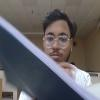notebook: (0, 11, 99, 99)
